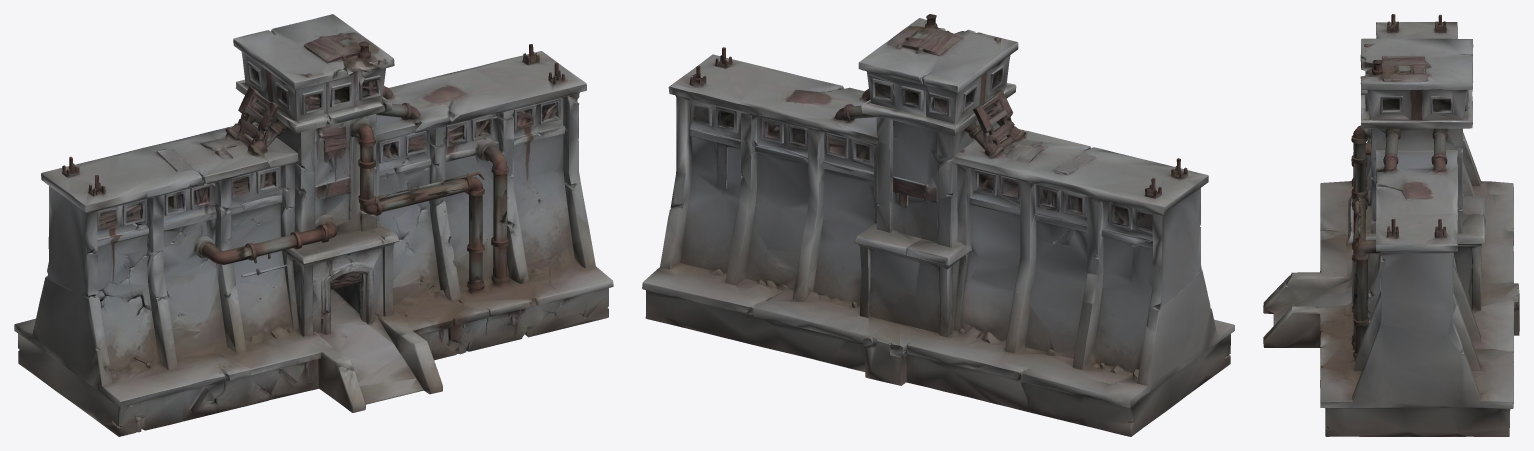
File: construction_site_idle.glb
3 views of the same model, side by side, from view 1: azimuth 30°, elevation 25°; view 2: azimuth 150°, elevation 25°; view 3: azimuth 270°, elevation 25° (orthographic). The views are drawn at different scales.
Parts seen in each view (by area): view 1: tripo_node_4c8cd27b-bac2-44e6-84bd-6be342772e62; view 2: tripo_node_4c8cd27b-bac2-44e6-84bd-6be342772e62; view 3: tripo_node_4c8cd27b-bac2-44e6-84bd-6be342772e62.
Boxes of the visible parts, bbox=[...] form: tripo_node_4c8cd27b-bac2-44e6-84bd-6be342772e62: bbox=[14, 14, 613, 436]; tripo_node_4c8cd27b-bac2-44e6-84bd-6be342772e62: bbox=[642, 14, 1234, 436]; tripo_node_4c8cd27b-bac2-44e6-84bd-6be342772e62: bbox=[1263, 14, 1519, 436].
Size of the model in its own units: 14 by 8.18 by 6.79.
Materials: 1 (1 with a texture image).
